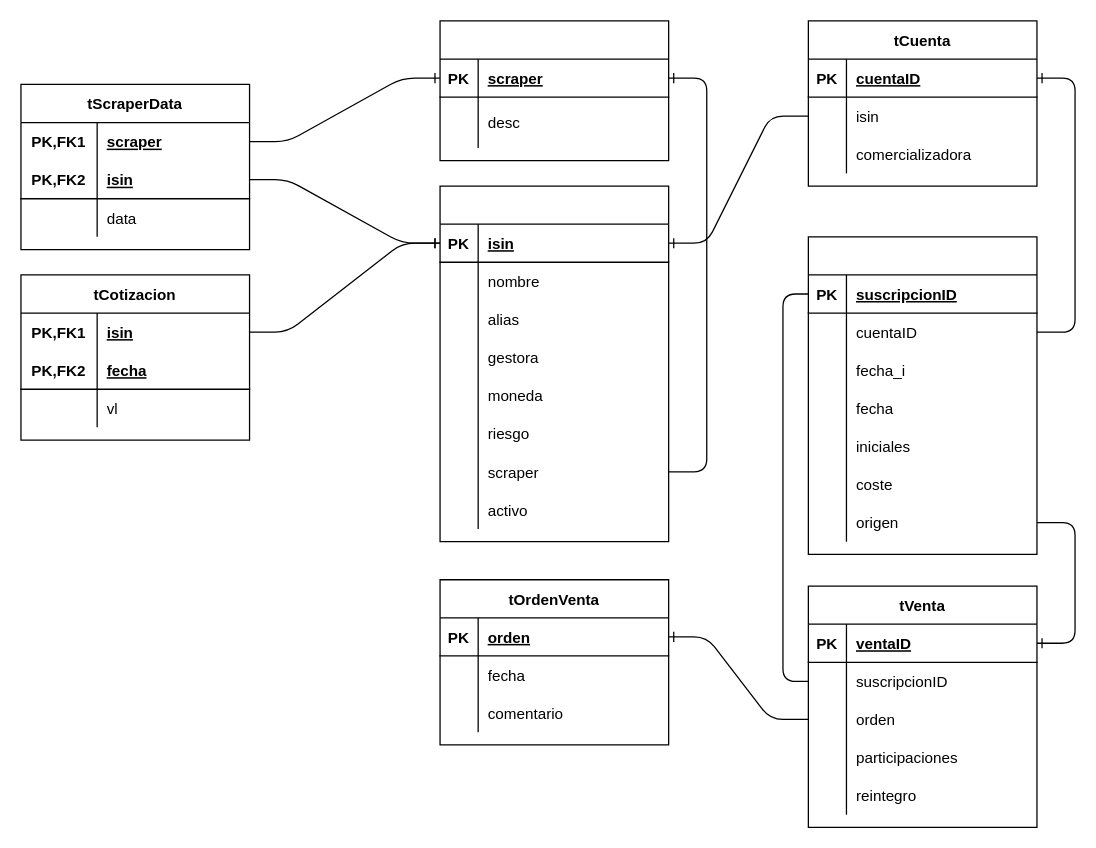
Image size: 1096x848. Some labels were removed from this diagram. The shapes that lost their labels are listed below. From the top down, each one's box as (x1, y1, x2, y2) in pixels, then its label:
(439, 20, 669, 161): tScraper
(439, 185, 669, 542): tFondo
(807, 236, 1037, 554): tSuscripcion
